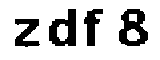8: (117, 5, 148, 48)
d: (46, 3, 78, 54)
f: (83, 5, 105, 53)
z: (12, 16, 41, 49)
